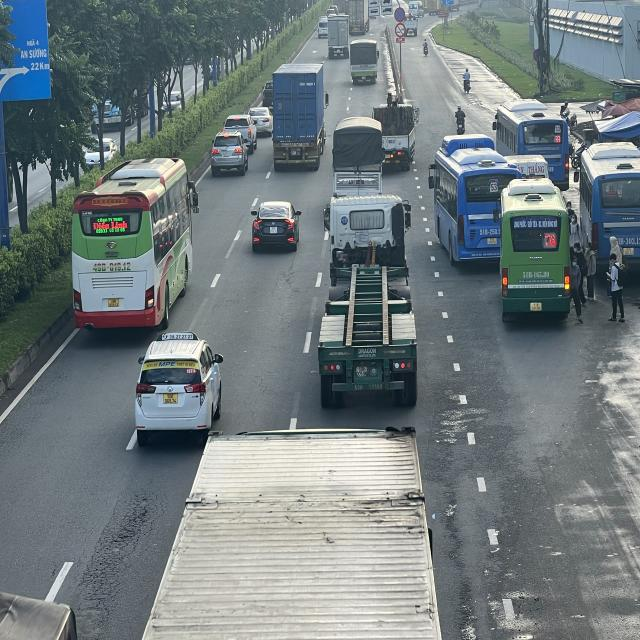car: (134, 331, 222, 438), (254, 200, 304, 251), (209, 130, 251, 174)
coach: (75, 158, 201, 334), (427, 138, 519, 268), (502, 178, 572, 320), (578, 145, 640, 293), (492, 97, 570, 160)
container: (126, 426, 444, 640), (323, 194, 422, 406), (271, 64, 327, 172)
truck: (331, 118, 384, 198), (377, 101, 421, 167), (348, 40, 378, 86), (327, 16, 349, 58)
